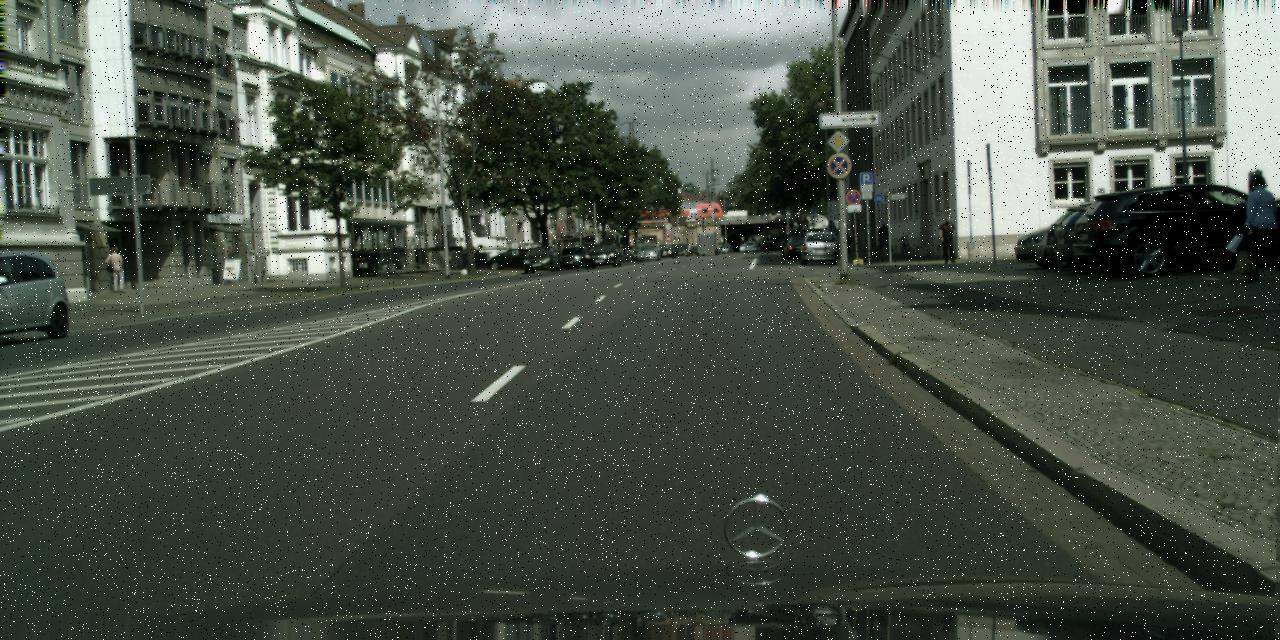ped: (1240, 170, 1279, 280), (938, 215, 958, 262), (106, 246, 125, 292), (876, 223, 891, 259)
